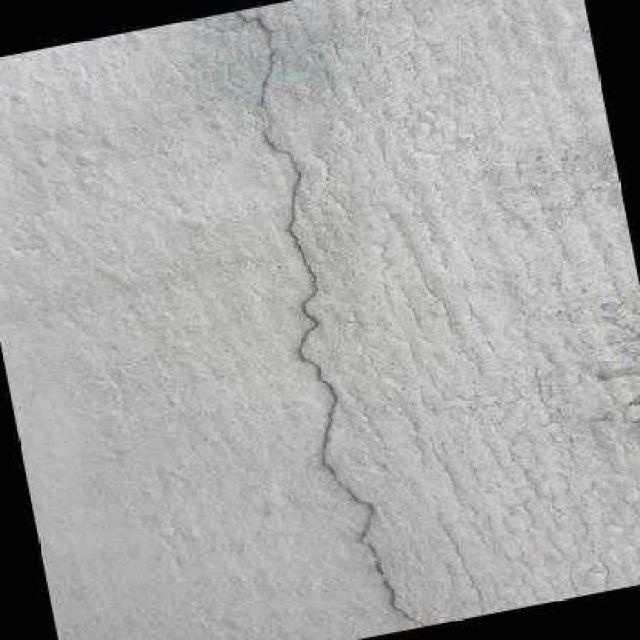D00: (226, 10, 431, 627)
